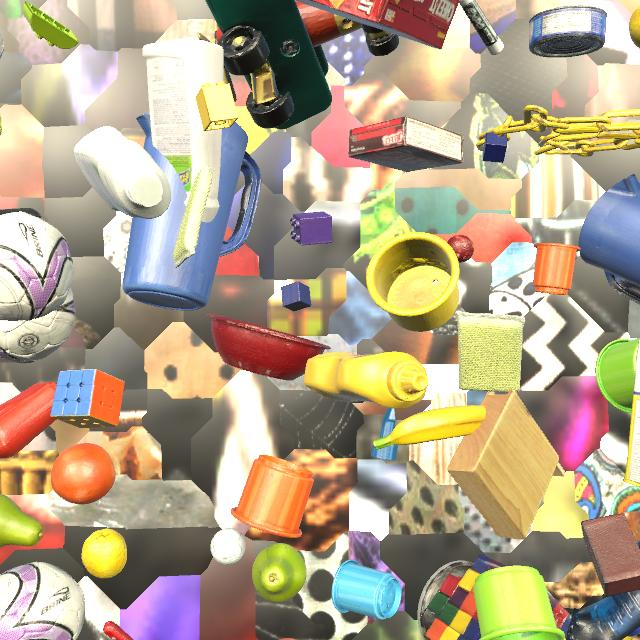ycb_003_cracker_box: (295, 0, 459, 50)
ycb_004_sugar_box: (623, 340, 640, 487)
ycb_006_mustard_bottle: (304, 352, 428, 409)
ycb_007_tuna_fish_can: (529, 5, 607, 58)
ycb_008_pudding_box: (348, 116, 464, 172)
ycb_011_banana: (373, 405, 486, 450)
ycb_014_lemon: (82, 529, 127, 579), (629, 6, 640, 48)
ycb_016_pear: (252, 543, 307, 603), (0, 494, 43, 547)
ycb_017_orange: (51, 443, 116, 504), (279, 638, 296, 640)
